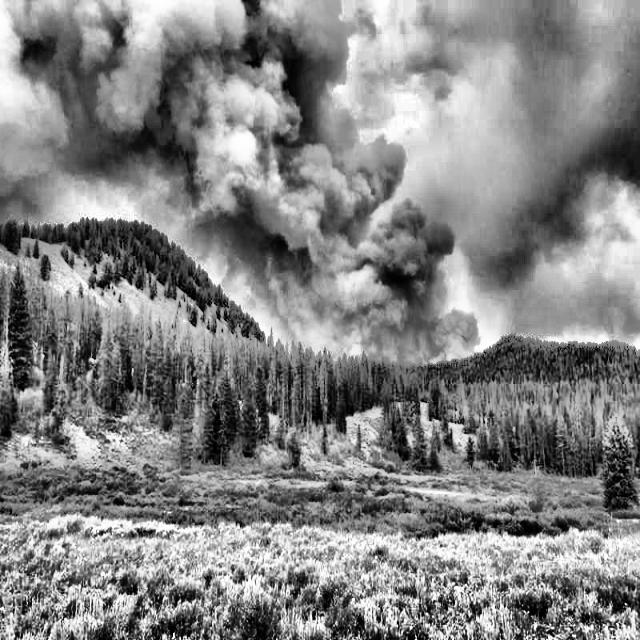fire: (232, 286, 503, 402)
